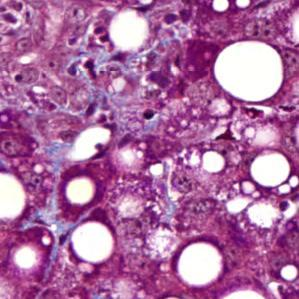steatosis: (215, 41, 287, 100), (177, 242, 224, 289), (70, 224, 117, 263), (249, 149, 293, 188), (66, 180, 96, 202)
